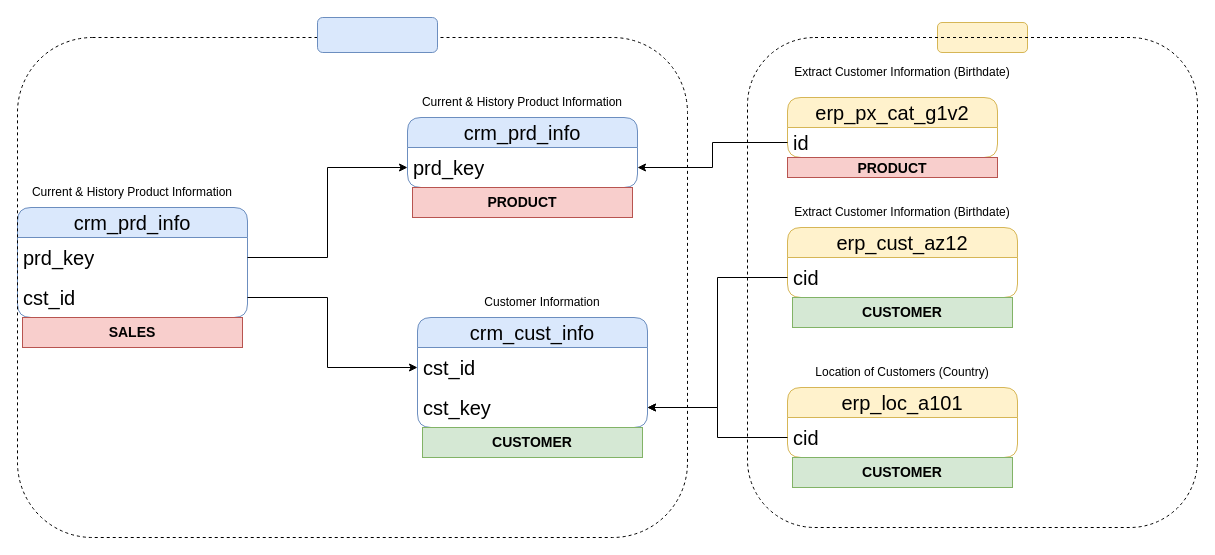
Some shapes in this 1215 by 555 pixel diagram are drawn without their labels. Here are the shapes that lost their labels. From the top down, the centre of each, then its label:
(377,34): CRM
(982,37): ERP
